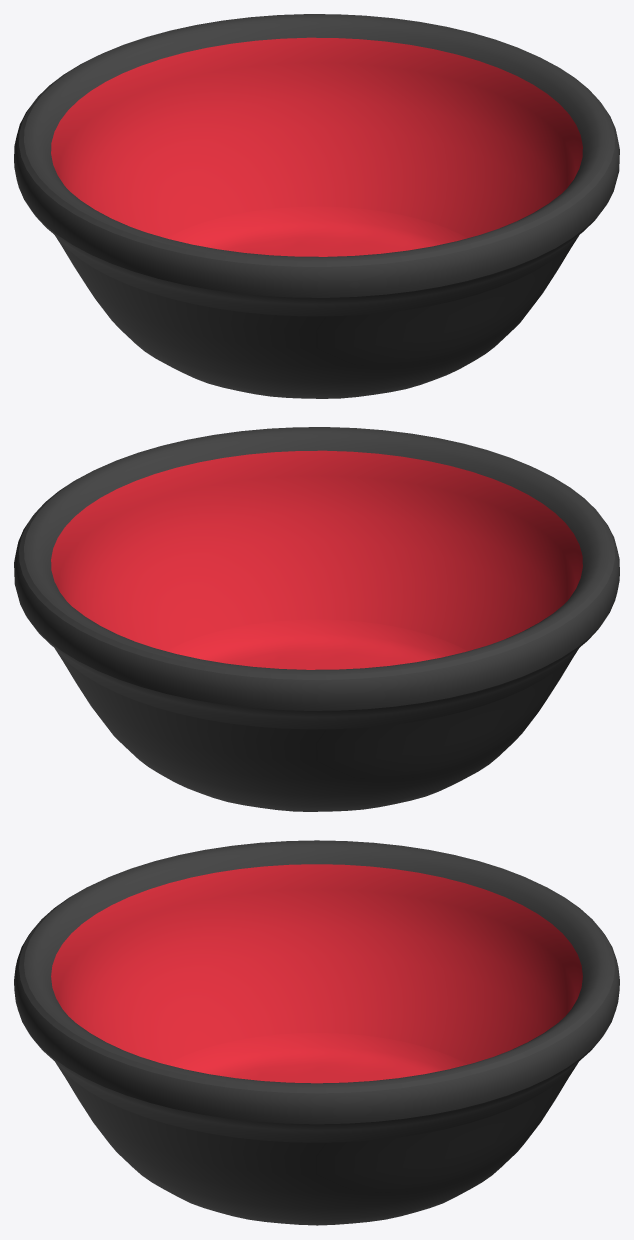
File: Bowl.fbx
3 renders of one model, top to bottom at view 1: azimuth 30°, elevation 25°; view 2: azimuth 150°, elevation 25°; view 3: azimuth 270°, elevation 25°, orthographic.
Parts seen in each view (by area): view 1: Circle.021; view 2: Circle.021; view 3: Circle.021.
Part boxes in pixels (x1=…): Circle.021: x1=14, y1=14, x2=619, y2=398; Circle.021: x1=14, y1=427, x2=619, y2=811; Circle.021: x1=14, y1=840, x2=619, y2=1225.
Size of the model in its own units: 63.24 by 24.21 by 63.24.
